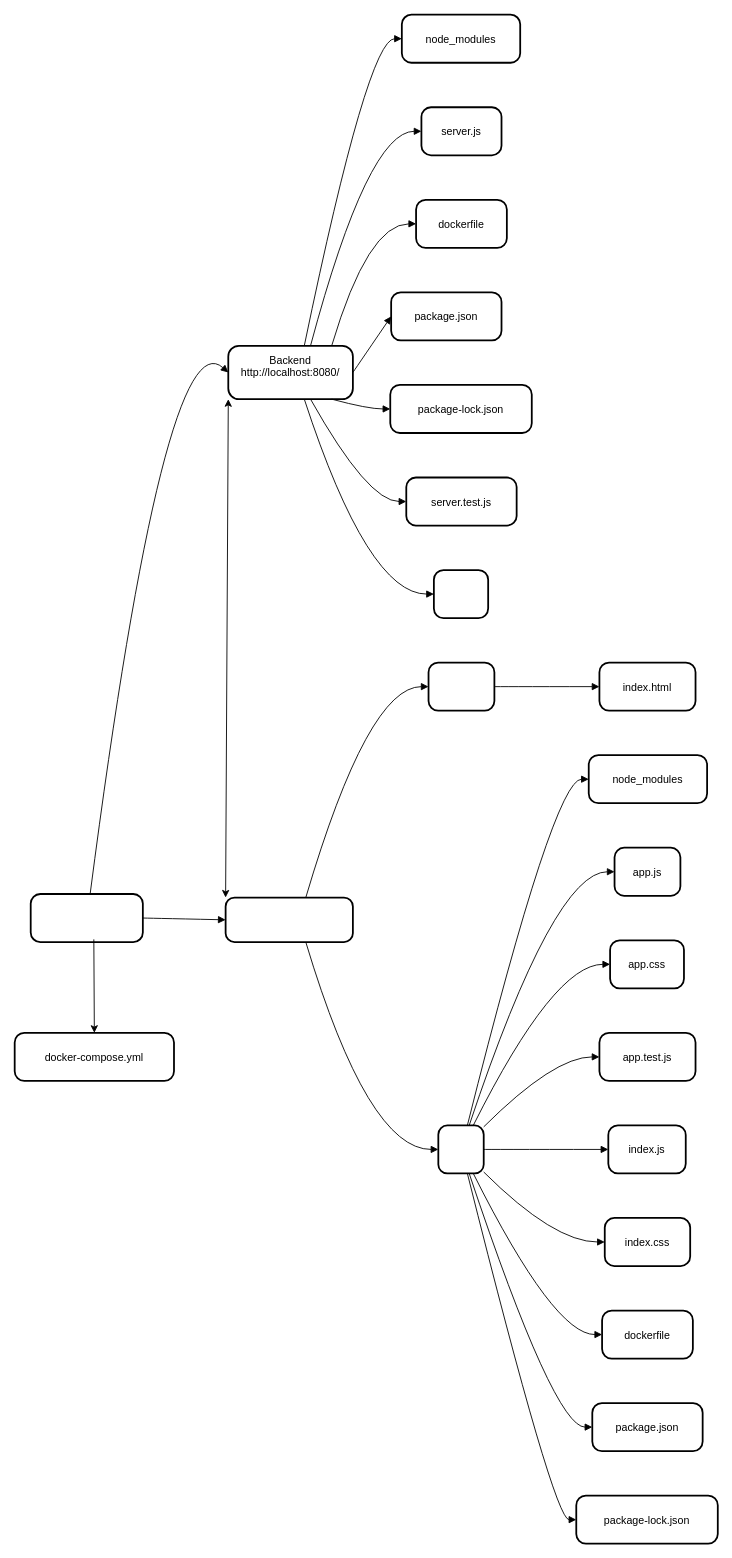
Image size: 732x1558. Some labels were removed from this diagram. Here are the shapes that lost their labels. From the top down, the centre of each, then its label:
the point at 461,594: .env
the point at 461,686: public
the point at 86,918: Microservices
the point at 288,919: Frontend http://localhost:3001/
the point at 460,1149: src
